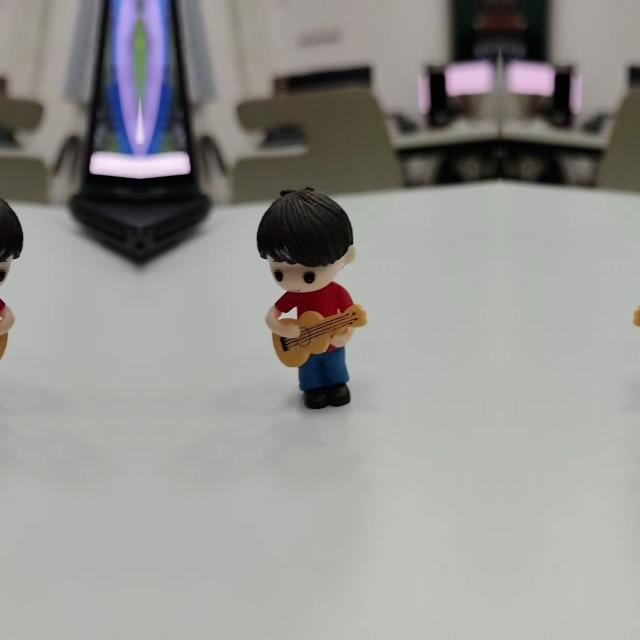man cloth: (274, 285, 356, 319), (0, 285, 6, 319)
man head: (255, 183, 358, 293), (0, 183, 25, 293)
trousers: (296, 345, 354, 415)
